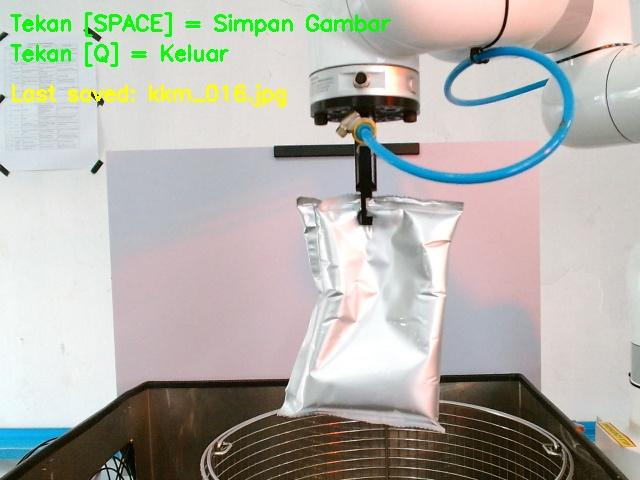retort-pouch: (272, 194, 459, 431)
